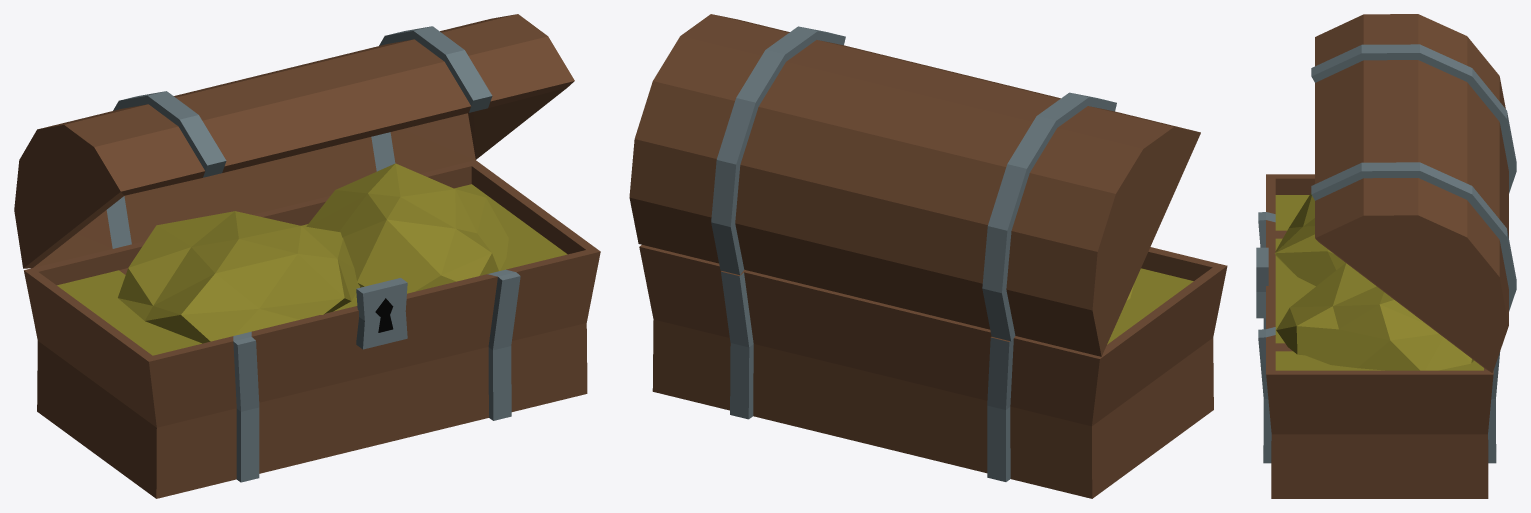
File: chest.FBX
3 renders of one model, left to right at view 1: azimuth 30°, elevation 25°; view 2: azimuth 150°, elevation 25°; view 3: azimuth 270°, elevation 25°, orthographic. The views are drawn at different scales.
Parts seen in each view (by area): view 1: Box001; view 2: Box001; view 3: Box001.
Boxes of the visible parts, box(x1,y1,x2,y2) form: Box001: box(14, 14, 600, 498); Box001: box(629, 14, 1227, 498); Box001: box(1256, 14, 1516, 498).
Size of the model in its own units: 117 by 64.1 by 80.3.
